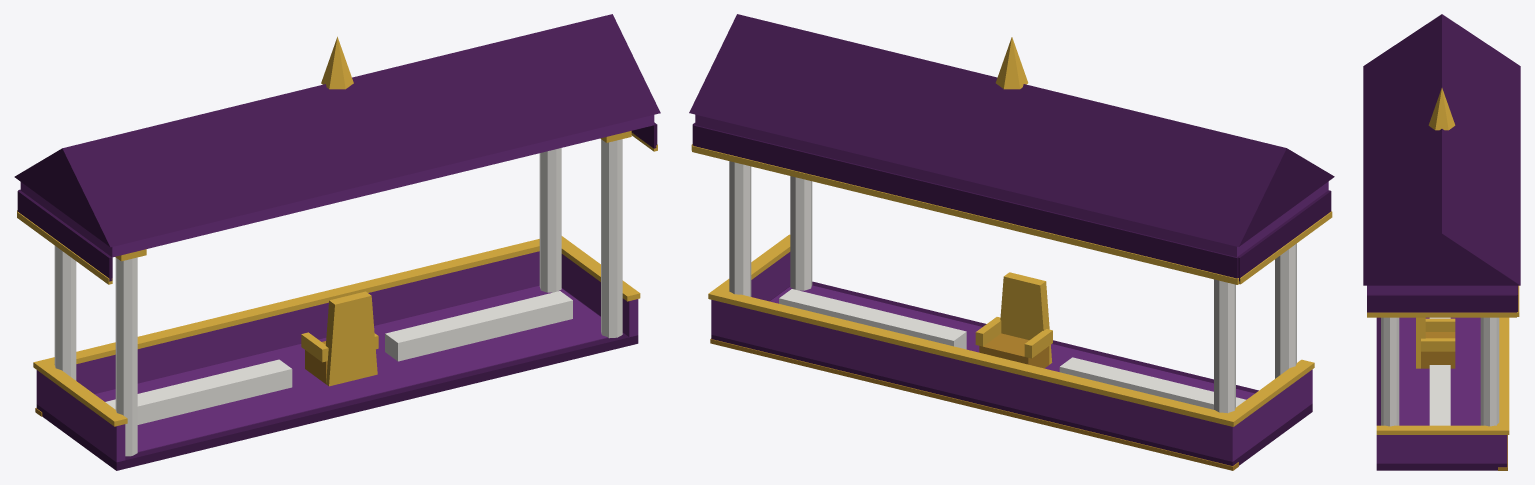
Rendered from SM_ColPulvinar.fbx.
3 renders of one model, left to right at view 1: azimuth 30°, elevation 25°; view 2: azimuth 150°, elevation 25°; view 3: azimuth 270°, elevation 25°, orthographic. The views are drawn at different scales.
Visible parts, largest first — view 1: SM_ColPulvinar; view 2: SM_ColPulvinar; view 3: SM_ColPulvinar.
Part boxes in pixels (x1=…): SM_ColPulvinar: x1=14, y1=14, x2=660, y2=470; SM_ColPulvinar: x1=689, y1=14, x2=1334, y2=470; SM_ColPulvinar: x1=1363, y1=14, x2=1520, y2=470.
Size of the model in its own units: 13.52 by 4.1 by 8.02.
